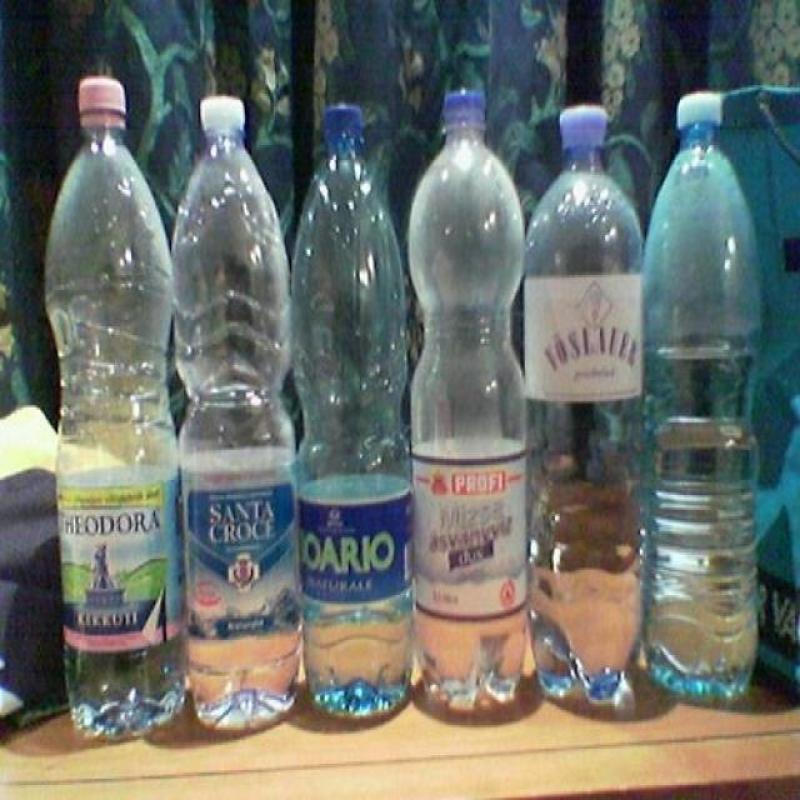botella: (45, 75, 184, 740), (170, 96, 301, 730), (290, 104, 416, 718), (408, 90, 528, 711), (526, 106, 649, 704), (646, 93, 764, 702)
